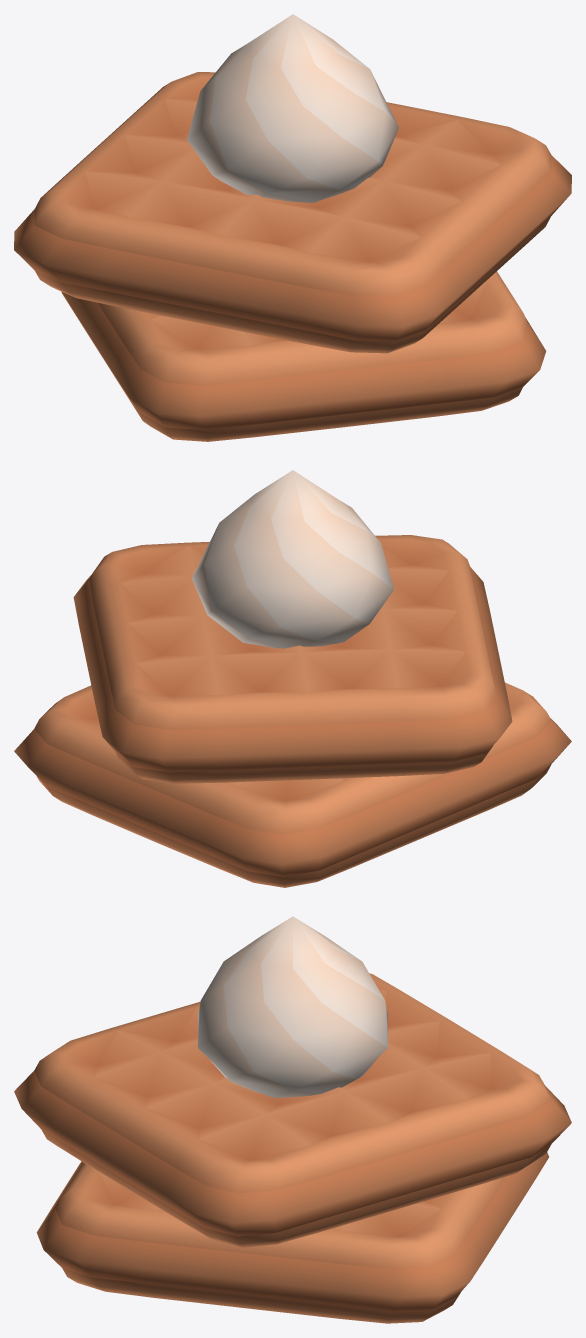
The model's file is waffle_stacked.glb.
The picture shows the model from 3 angles, top to bottom: view 1: azimuth 30°, elevation 25°; view 2: azimuth 150°, elevation 25°; view 3: azimuth 270°, elevation 25°; orthographic projection. The views are drawn at different scales.
Parts seen in each view (by area): view 1: waffle_stacked; view 2: waffle_stacked; view 3: waffle_stacked.
Part boxes in pixels (<box>): waffle_stacked: <box>14,14,571,441</box>; waffle_stacked: <box>14,470,571,887</box>; waffle_stacked: <box>14,916,571,1323</box>.
Bounding box in the file's own units: 0.6816 × 0.4459 × 0.6917.
Materials: 1 (1 with a texture image).
